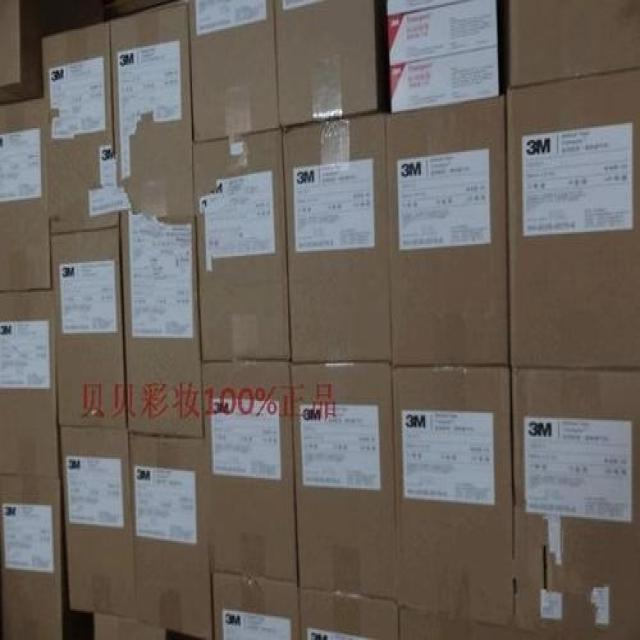box: (503, 73, 639, 369), (510, 369, 639, 635), (386, 98, 508, 366), (390, 366, 512, 626), (282, 116, 389, 366), (291, 364, 395, 599), (191, 133, 289, 362), (202, 361, 299, 582), (119, 216, 205, 439), (110, 5, 194, 218), (130, 435, 212, 638), (43, 24, 119, 235), (48, 227, 126, 429), (58, 427, 133, 619), (276, 2, 384, 128), (187, 1, 279, 142), (503, 2, 639, 87), (0, 290, 60, 478), (0, 474, 63, 638), (0, 100, 50, 292), (385, 1, 497, 67), (389, 48, 500, 112), (211, 574, 300, 638), (298, 588, 397, 638), (397, 607, 513, 638), (386, 0, 456, 14)
